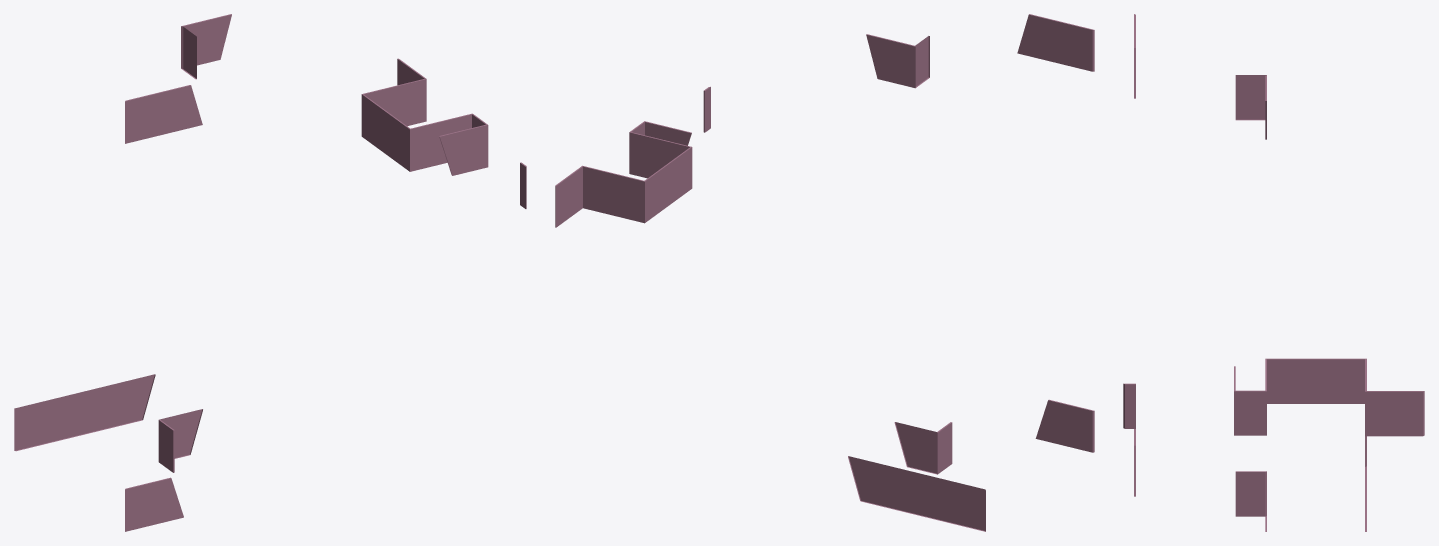
The picture shows the model from 3 angles, left to right: view 1: azimuth 30°, elevation 25°; view 2: azimuth 150°, elevation 25°; view 3: azimuth 270°, elevation 25°; orthographic projection. The views are drawn at different scales.
Size of the model in its own units: 4.58 by 4.57 by 2.76.
